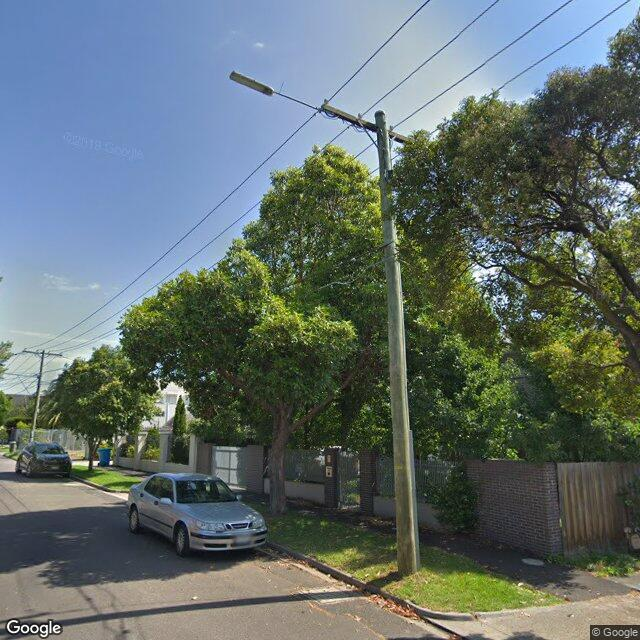crossarm: (320, 104, 412, 144), (22, 350, 62, 356)
streetlight: (230, 71, 320, 110)
timber-pole: (375, 110, 420, 573), (29, 350, 45, 443)
